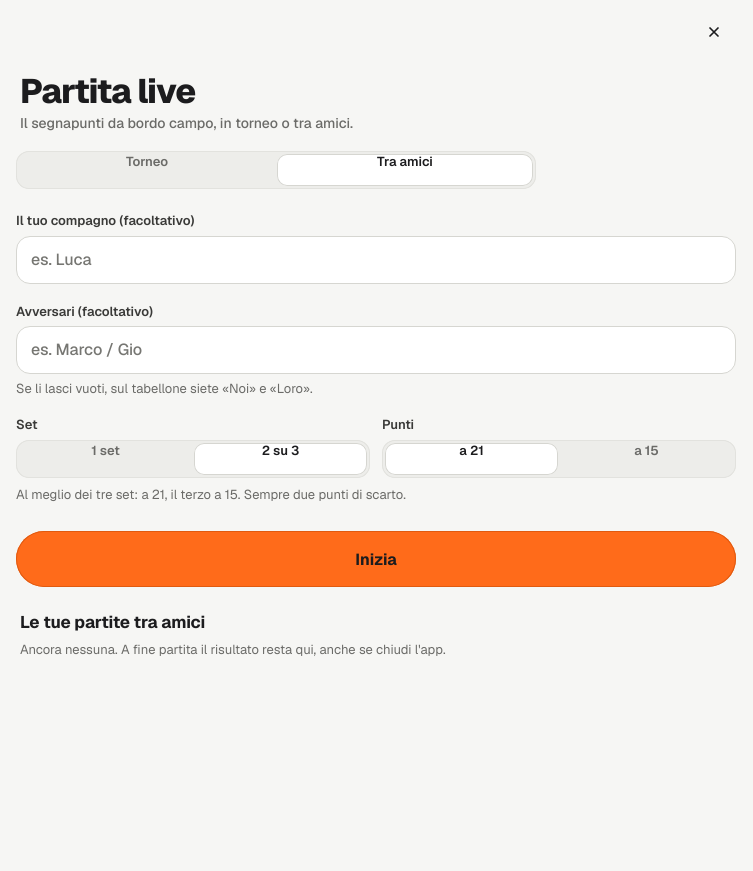
Scenario: PartitaLive — tra amici › senza nomi si gioca «Noi» contro «Loro», a 21 al meglio dei tre
Click the button "Inizia" at [376, 559], box [16,531,736,587]
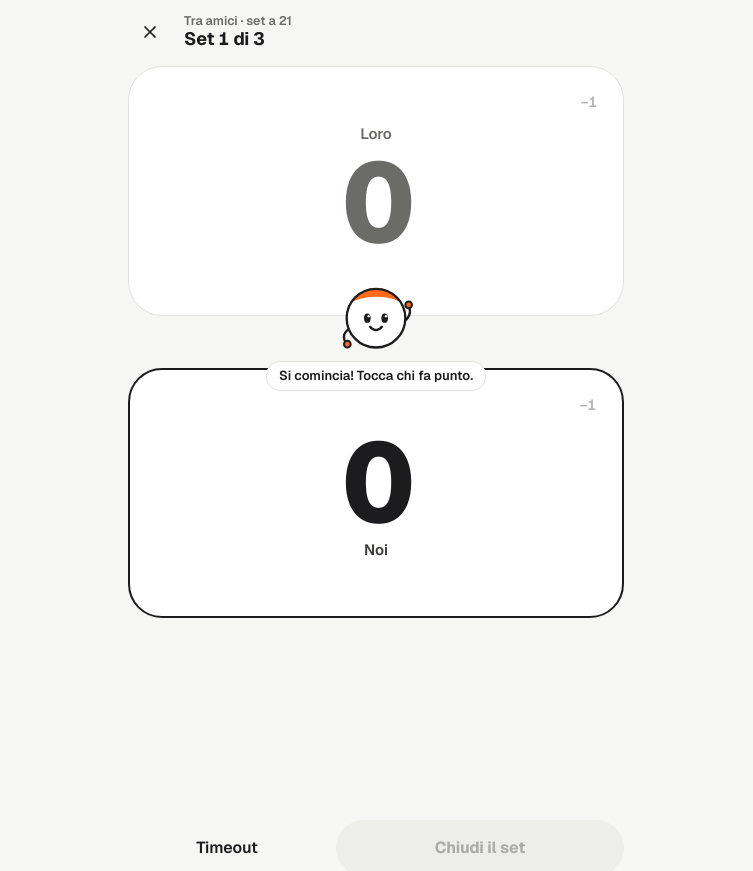
Expected: the text "Noi" is shown, [364,540,388,560]
Now the text "Tra amici · set a 21" is shown, box [184,12,292,29]
Now the button named "Togli un punto a loro" is shown, box [567,79,611,123]
